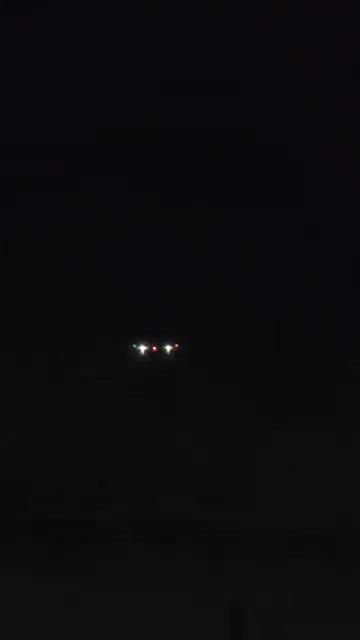Plane: (109, 307, 200, 387)
